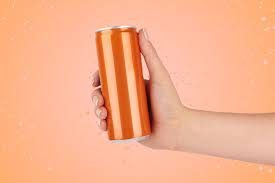can: (93, 24, 155, 146)
